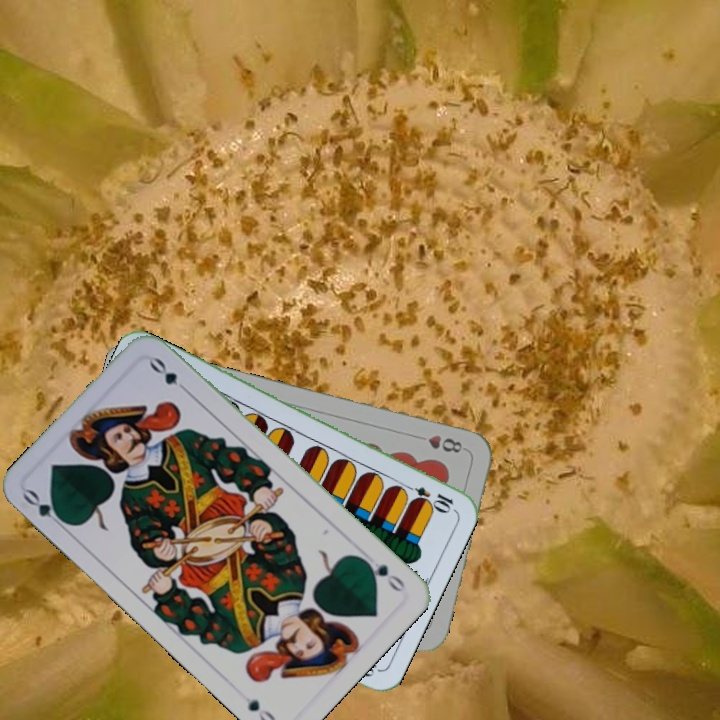E10: (398, 480, 456, 514)
GO: (19, 485, 72, 532), (357, 554, 409, 595)
H8: (410, 431, 465, 456)
